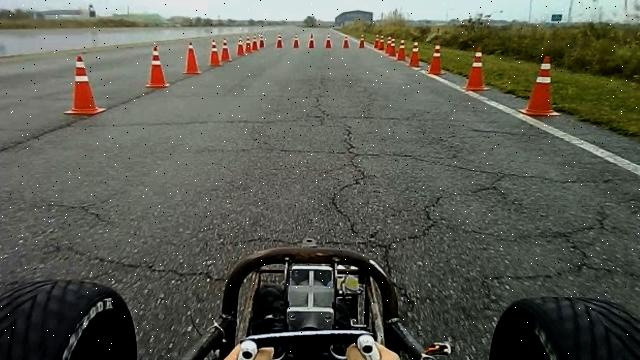red cone: (518, 55, 562, 117), (64, 54, 106, 115), (464, 46, 491, 91), (145, 45, 170, 88), (182, 40, 202, 74), (426, 43, 447, 75), (408, 40, 422, 68), (209, 38, 222, 66), (220, 37, 232, 62), (396, 38, 407, 62)
